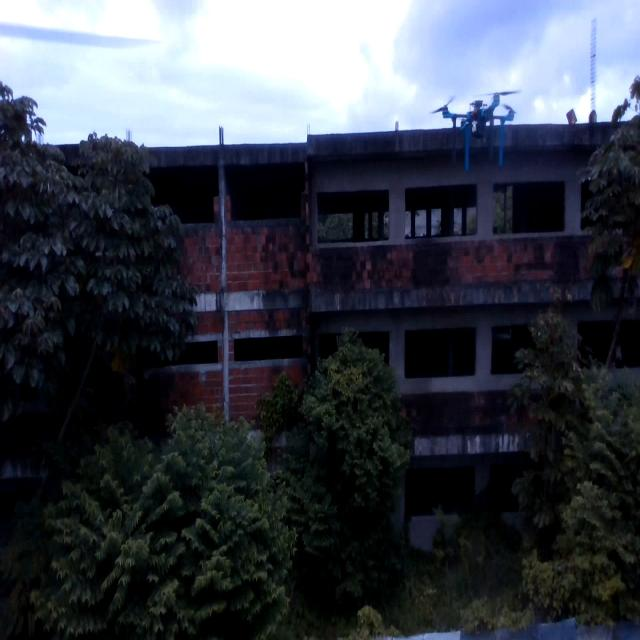-uav-: (426, 80, 524, 178)
